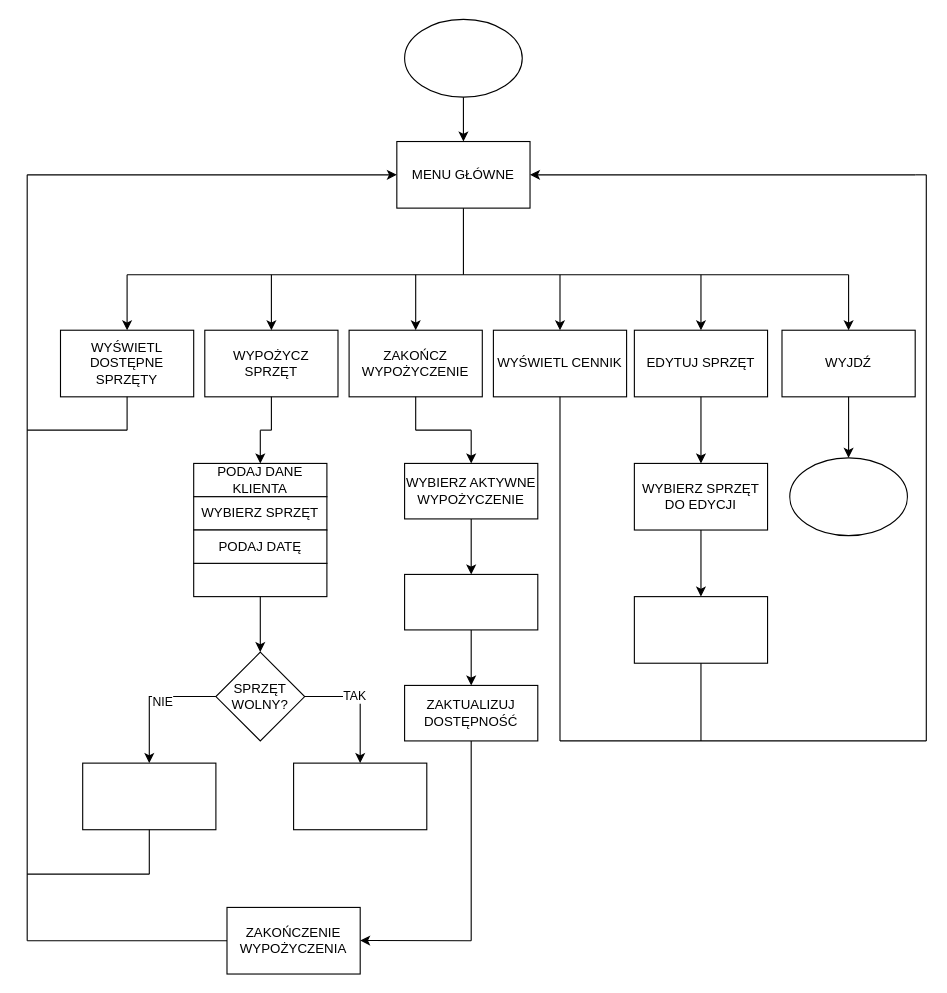
Some shapes in this 947 by 993 pixel diagram are drawn without their labels. Each missing label, with the centre of its shape:
"KOMUNIKAT: SPRZĘT ZAJĘTY" belongs at (149,796).
"KONIEC" belongs at (848,496).
"OBLICZ OPŁATĘ" belongs at (470,601).
"SPRAWDŹ DOSTĘPNOŚĆ" belongs at (260,579).
"START" belongs at (462,57).
"UTWÓRZ REZERWACJĘ" belongs at (359,796).
"ZMIEŃ DANE" belongs at (700,629).
